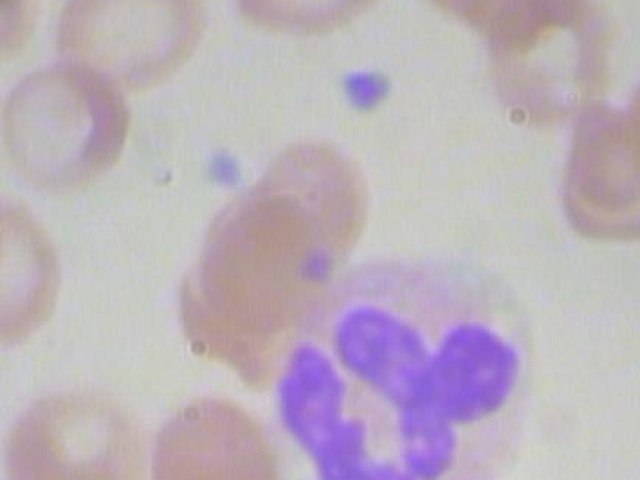Platelets: (191, 132, 251, 191), (337, 60, 396, 119)
RBC: (0, 44, 143, 190), (472, 0, 633, 125), (46, 0, 206, 97), (0, 382, 149, 480), (0, 192, 80, 357), (229, 0, 395, 36)
WBC: (255, 251, 574, 480)
